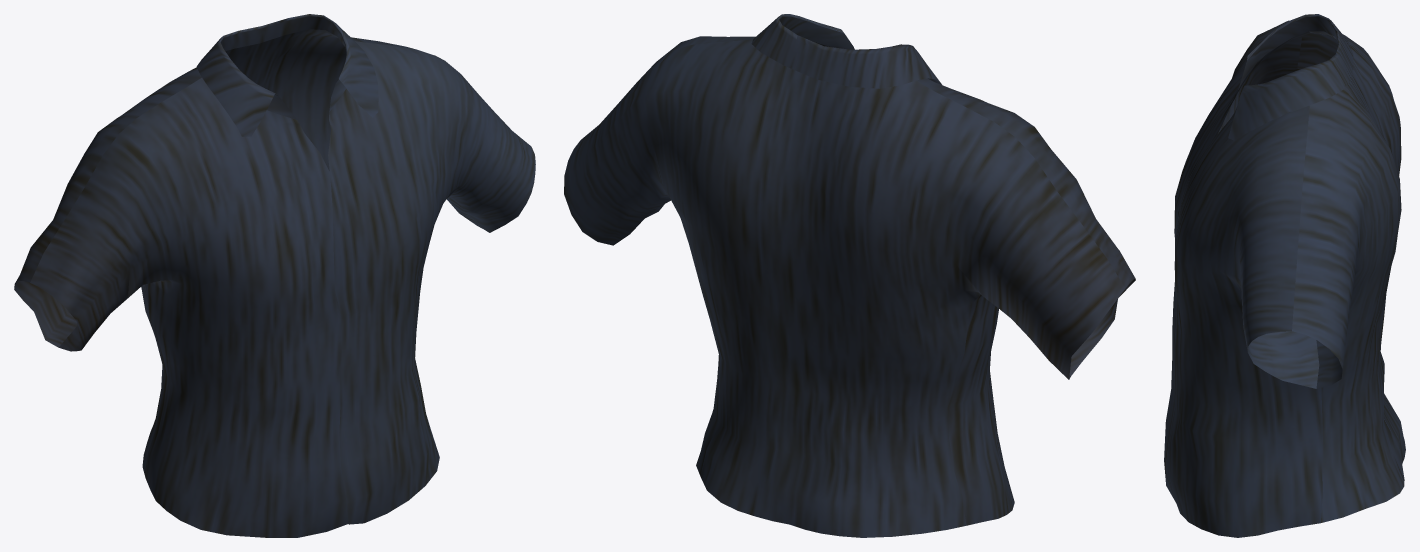
File: SS_SMM.dae
3 renders of one model, left to right at view 1: azimuth 30°, elevation 25°; view 2: azimuth 150°, elevation 25°; view 3: azimuth 270°, elevation 25°, orthographic. The views are drawn at different scales.
Visible parts, largest first — view 1: shortshirt; view 2: shortshirt; view 3: shortshirt.
Part boxes in pixels (<box>): shortshirt: <box>14,14,535,537</box>; shortshirt: <box>564,14,1135,537</box>; shortshirt: <box>1164,14,1405,537</box>.
Bounding box in the file's own units: 6.66 × 5.7 × 2.75.
